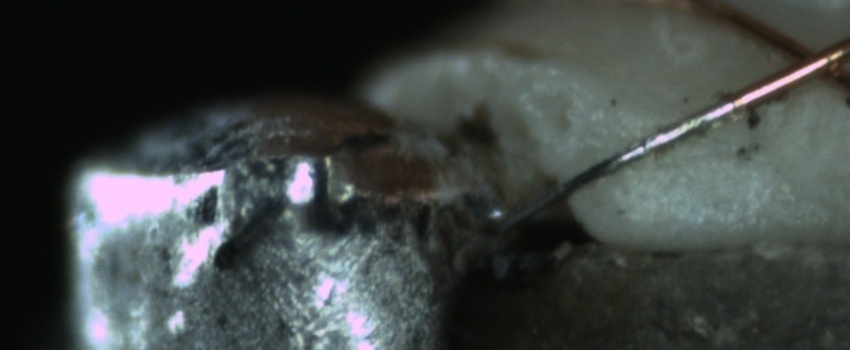CL: (764, 25, 849, 93)
TS: (482, 96, 729, 236)
TTCW: (484, 64, 771, 237)
